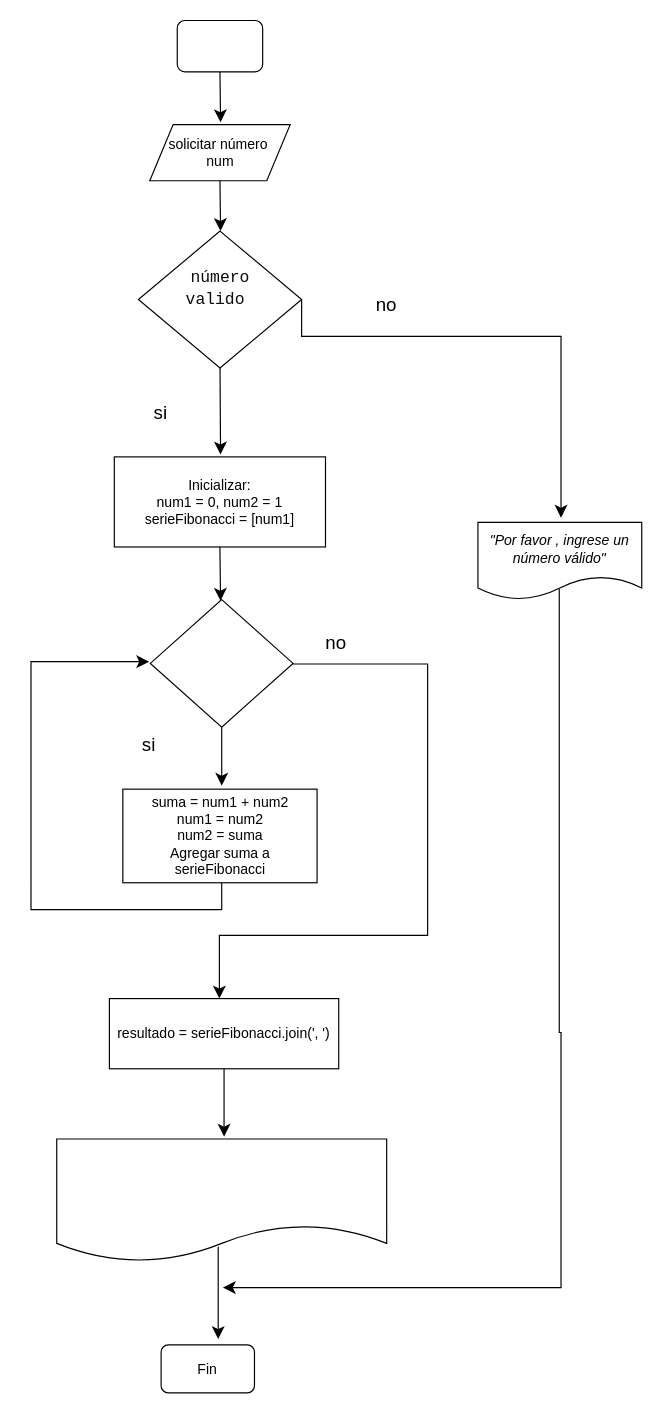
Some shapes in this 662 by 1413 pixel diagram are drawn without their labels. The shapes that lost their labels are listed below. From the top down, each one's box as (x1, y1, x2, y2) in pixels, then its label:
(176, 19, 263, 72): Inicio
(149, 598, 293, 727): i < num
(56, 1138, 387, 1262): La serie de fibonacci para ${ num } números es: ${ serieFibonacci (num) }
